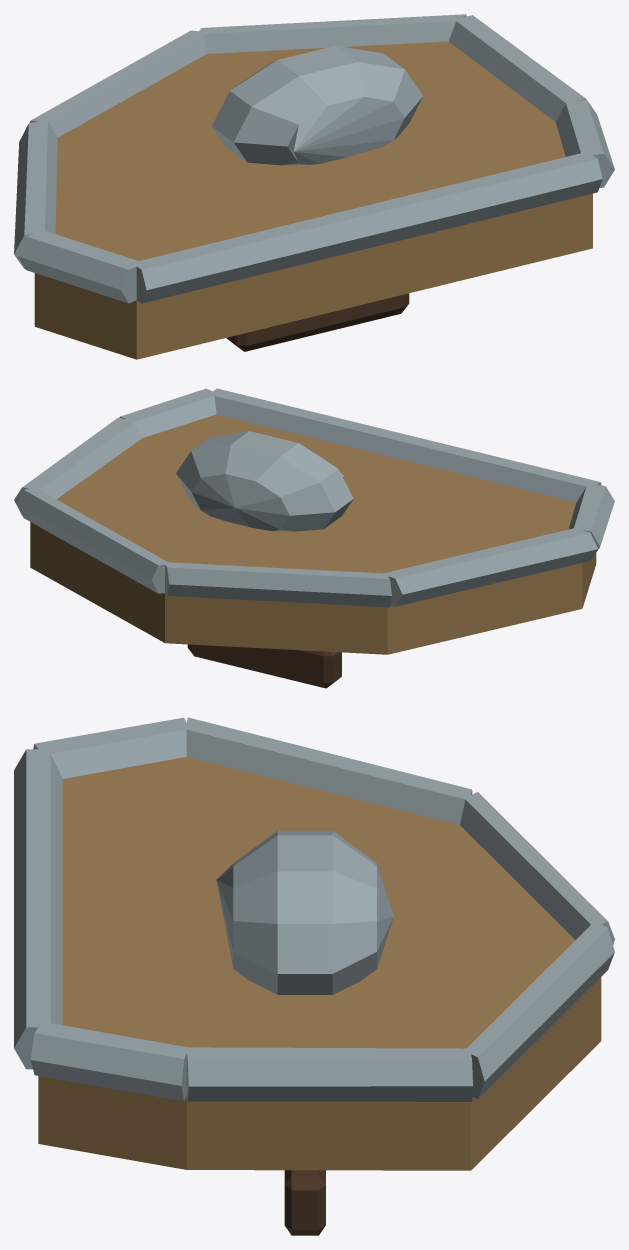
File: shield.glb
3 renders of one model, top to bottom at view 1: azimuth 30°, elevation 25°; view 2: azimuth 150°, elevation 25°; view 3: azimuth 270°, elevation 25°, orthographic. The views are drawn at different scales.
Parts seen in each view (by area): view 1: shield.001; view 2: shield.001; view 3: shield.001.
Part boxes in pixels (x1,y1,x2,y2): shield.001: (14, 14, 614, 359); shield.001: (14, 388, 614, 688); shield.001: (14, 717, 614, 1235).
Bounding box in the file's own units: 0.4812 × 0.2119 × 0.345.
